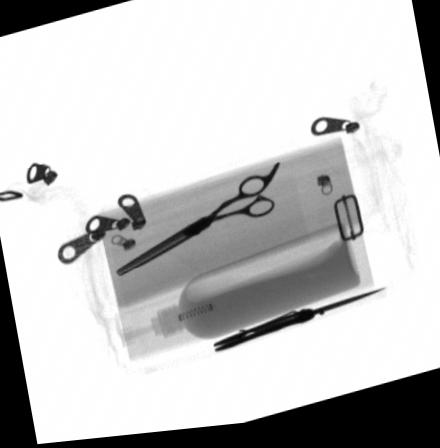Knife: (212, 293, 386, 355)
Scissors: (115, 166, 279, 278)
